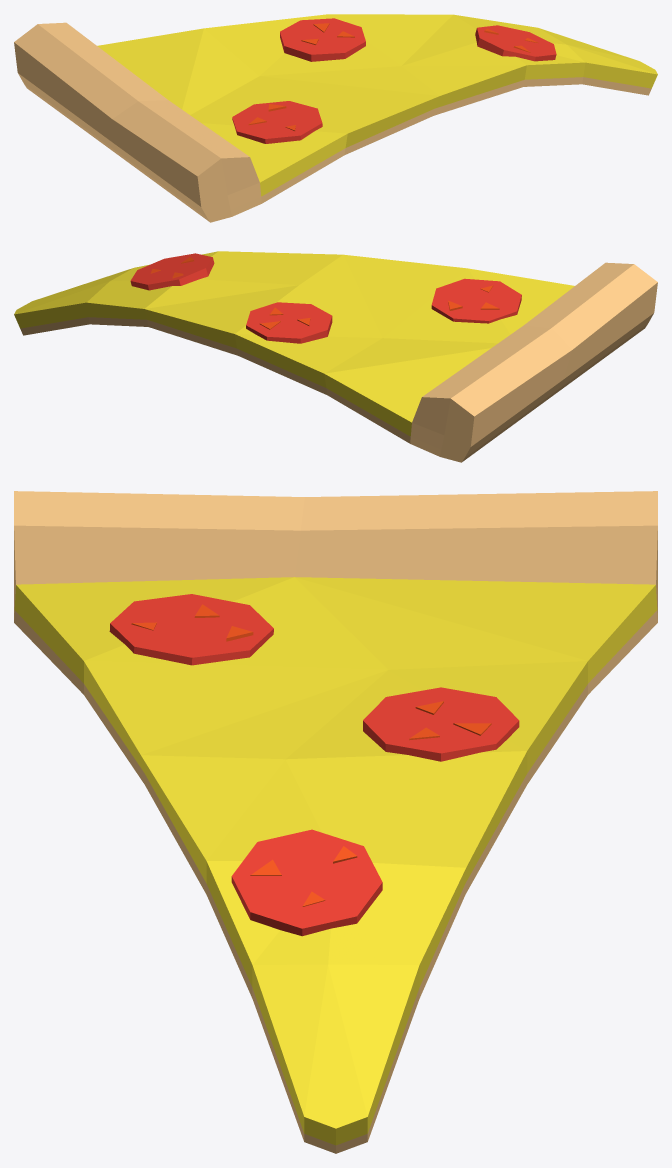
Rendered from Pizza slice.glb.
3 views of the same model, one above another, from view 1: azimuth 30°, elevation 25°; view 2: azimuth 150°, elevation 25°; view 3: azimuth 270°, elevation 25° (orthographic). The views are drawn at different scales.
Visible parts, largest first — view 1: Plane.001; view 2: Plane.001; view 3: Plane.001.
Boxes of the visible parts, box(x1,y1,x2,y2) form: Plane.001: box(14, 14, 657, 222); Plane.001: box(14, 251, 657, 462); Plane.001: box(14, 491, 657, 1153).
Size of the model in its own units: 17.29 by 3.78 by 10.
